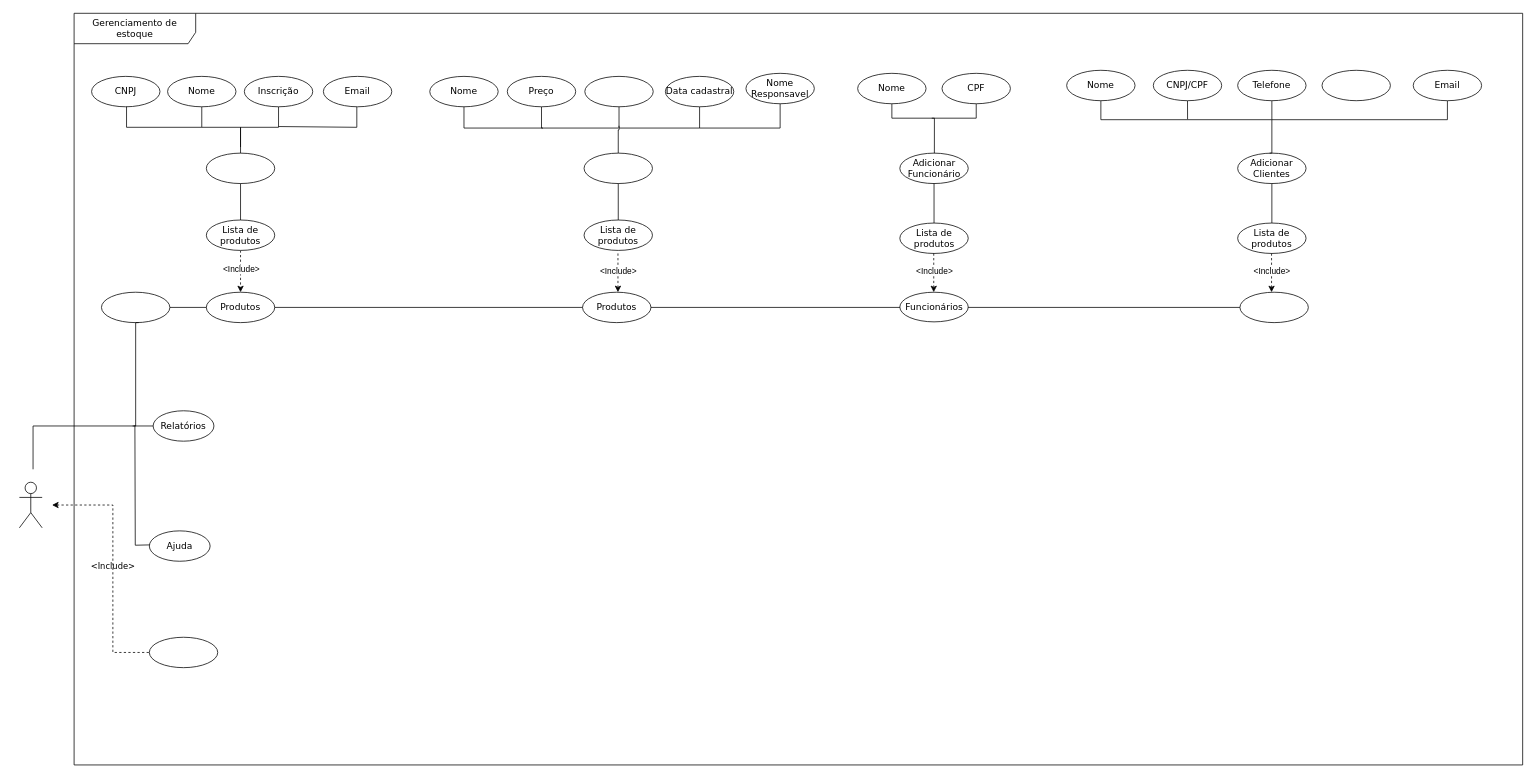
Some shapes in this 1536 by 778 pixel diagram are drawn without their labels. The centre of each missing label's shape, as x and y in pixels:
"Adicionar Empresa" belongs at point (240, 168).
"Adicionar Produtos" belongs at point (617, 168).
"Cadastros" belongs at point (135, 307).
"Clientes" belongs at point (1273, 307).
"DashBoard" belongs at point (183, 652).
"Endereço" belongs at point (1355, 85).
"Quantidade" belongs at point (618, 91).
"Usuario" belongs at point (30, 504).
